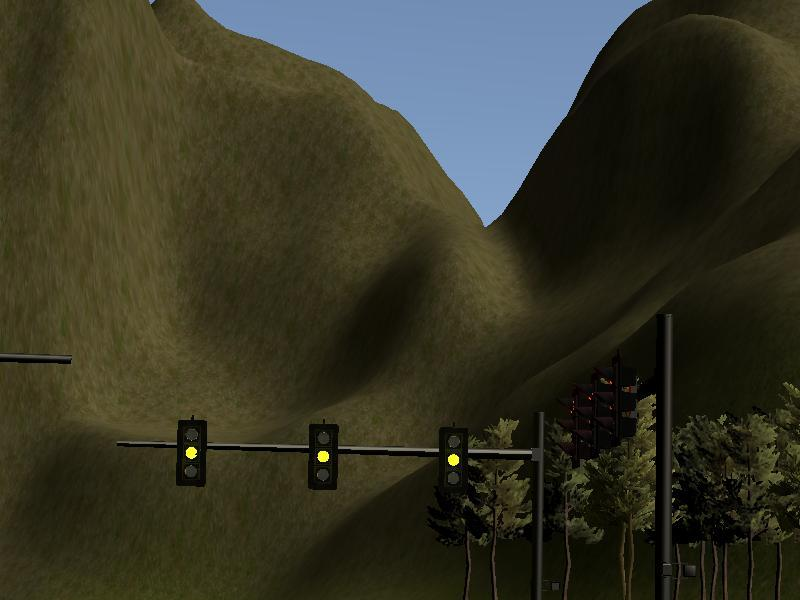Yellow: (175, 422, 206, 486), (308, 424, 337, 490), (439, 428, 468, 494)
